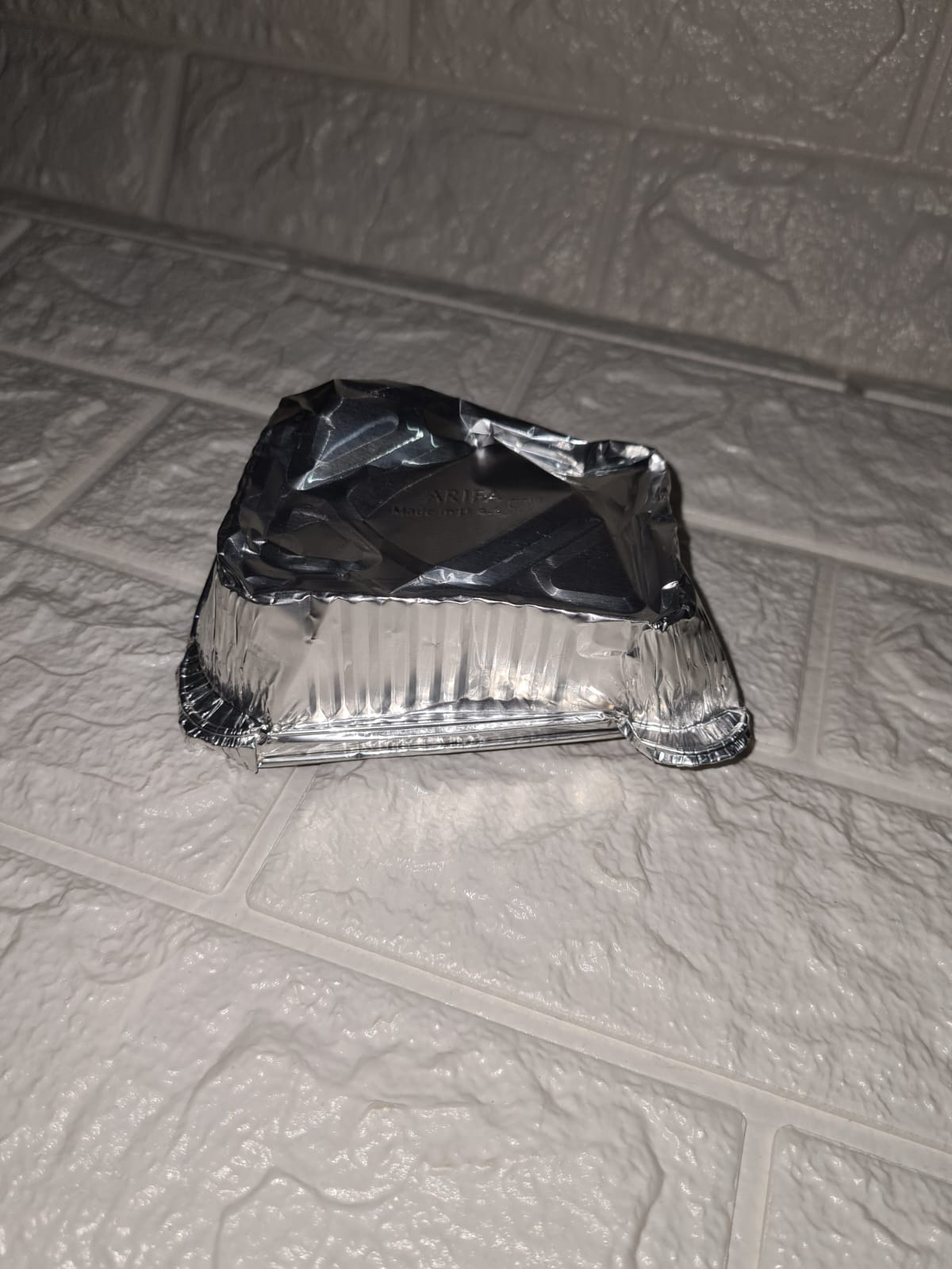Metal: (167, 370, 770, 783)
